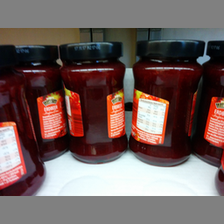jam: (129, 40, 205, 166), (58, 41, 128, 163), (1, 44, 46, 196)
